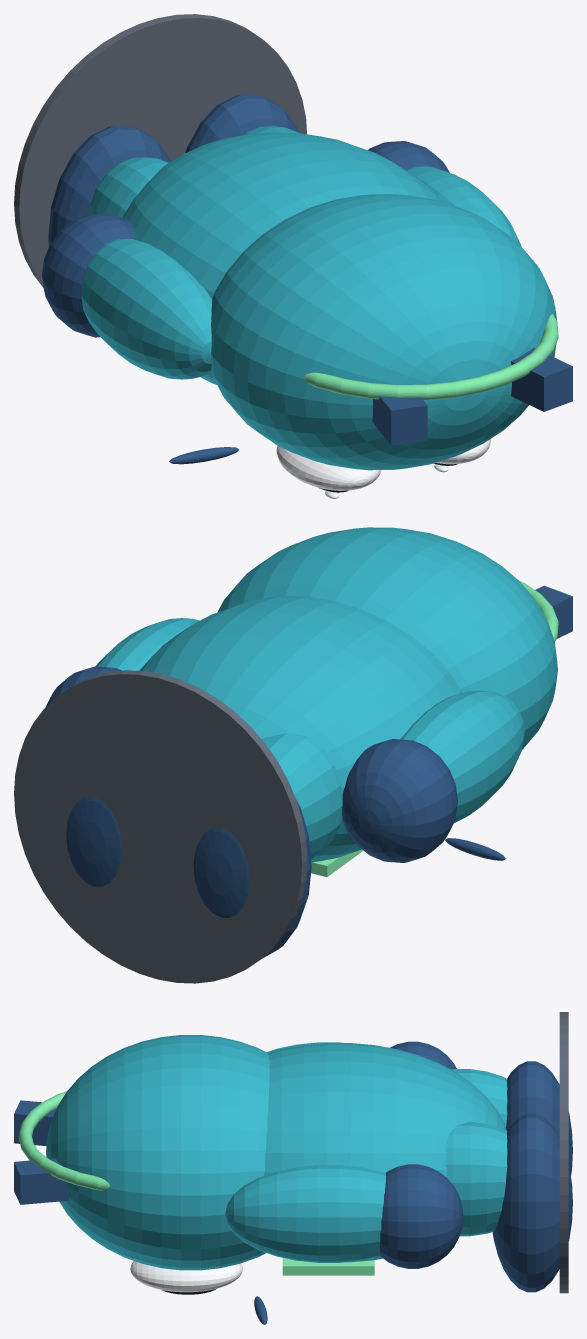
The model's file is luma_reaction_energy.glb.
3 views of the same model, one above another, from view 1: azimuth 30°, elevation 25°; view 2: azimuth 150°, elevation 25°; view 3: azimuth 270°, elevation 25° (orthographic). The views are drawn at different scales.
Visible parts, largest first — view 1: CHR_Head, CHR_DisplayBase, CHR_Torso, CHR_LeftArm, CHR_LeftHand, CHR_LeftFoot, CHR_StatusRing, CHR_RightFoot, CHR_LeftLeg, CHR_RightArm, CHR_RightAntenna, CHR_LeftAntenna (+3 smaller); view 2: CHR_DisplayBase, CHR_Torso, CHR_Head, CHR_LeftHand, CHR_LeftArm, CHR_LeftLeg, CHR_LeftFoot, CHR_RightFoot, CHR_RightArm, CHR_LeftAntenna, CHR_RightHand, CHR_LeftBrow (+2 smaller); view 3: CHR_Head, CHR_Torso, CHR_RightArm, CHR_RightFoot, CHR_RightHand, CHR_RightLeg, CHR_LeftFoot, CHR_DisplayBase, CHR_RightEyeWhite, CHR_StatusRing, CHR_RightAntenna, CHR_ChestSensor (+3 smaller).
Boxes of the visible parts, x1,y1,x2,y2 form: CHR_Head: (211, 194, 557, 470); CHR_DisplayBase: (14, 14, 306, 287); CHR_Torso: (122, 132, 440, 384); CHR_LeftArm: (81, 238, 211, 379); CHR_LeftHand: (42, 213, 134, 337); CHR_LeftFoot: (48, 126, 170, 246); CHR_StatusRing: (304, 314, 558, 400); CHR_RightFoot: (185, 95, 299, 152); CHR_LeftLeg: (89, 157, 168, 217); CHR_RightArm: (406, 166, 521, 246); CHR_RightAntenna: (511, 347, 572, 411); CHR_LeftAntenna: (372, 396, 427, 445); CHR_DisplayBase: (14, 670, 307, 983); CHR_Torso: (140, 595, 461, 862); CHR_Head: (217, 527, 557, 749); CHR_LeftHand: (342, 739, 457, 862); CHR_LeftArm: (400, 690, 524, 822); CHR_LeftLeg: (262, 733, 342, 859); CHR_LeftFoot: (193, 800, 311, 958); CHR_RightFoot: (66, 797, 122, 886); CHR_RightArm: (96, 618, 199, 670); CHR_LeftAntenna: (535, 585, 572, 638); CHR_RightHand: (45, 666, 121, 707); CHR_LeftBrow: (445, 838, 505, 860); CHR_Head: (46, 1035, 269, 1270); CHR_Torso: (264, 1043, 506, 1262); CHR_RightArm: (225, 1165, 385, 1262); CHR_RightFoot: (492, 1113, 572, 1292); CHR_RightHand: (380, 1164, 463, 1268); CHR_RightLeg: (445, 1121, 507, 1236); CHR_LeftFoot: (506, 1061, 572, 1175); CHR_DisplayBase: (559, 1012, 568, 1293); CHR_RightEyeWhite: (130, 1261, 242, 1292); CHR_StatusRing: (18, 1091, 109, 1190); CHR_RightAntenna: (14, 1158, 69, 1204); CHR_ChestSensor: (282, 1258, 374, 1275).
Bounding box in the file's own units: 2.64 × 1.9 × 3.78.
